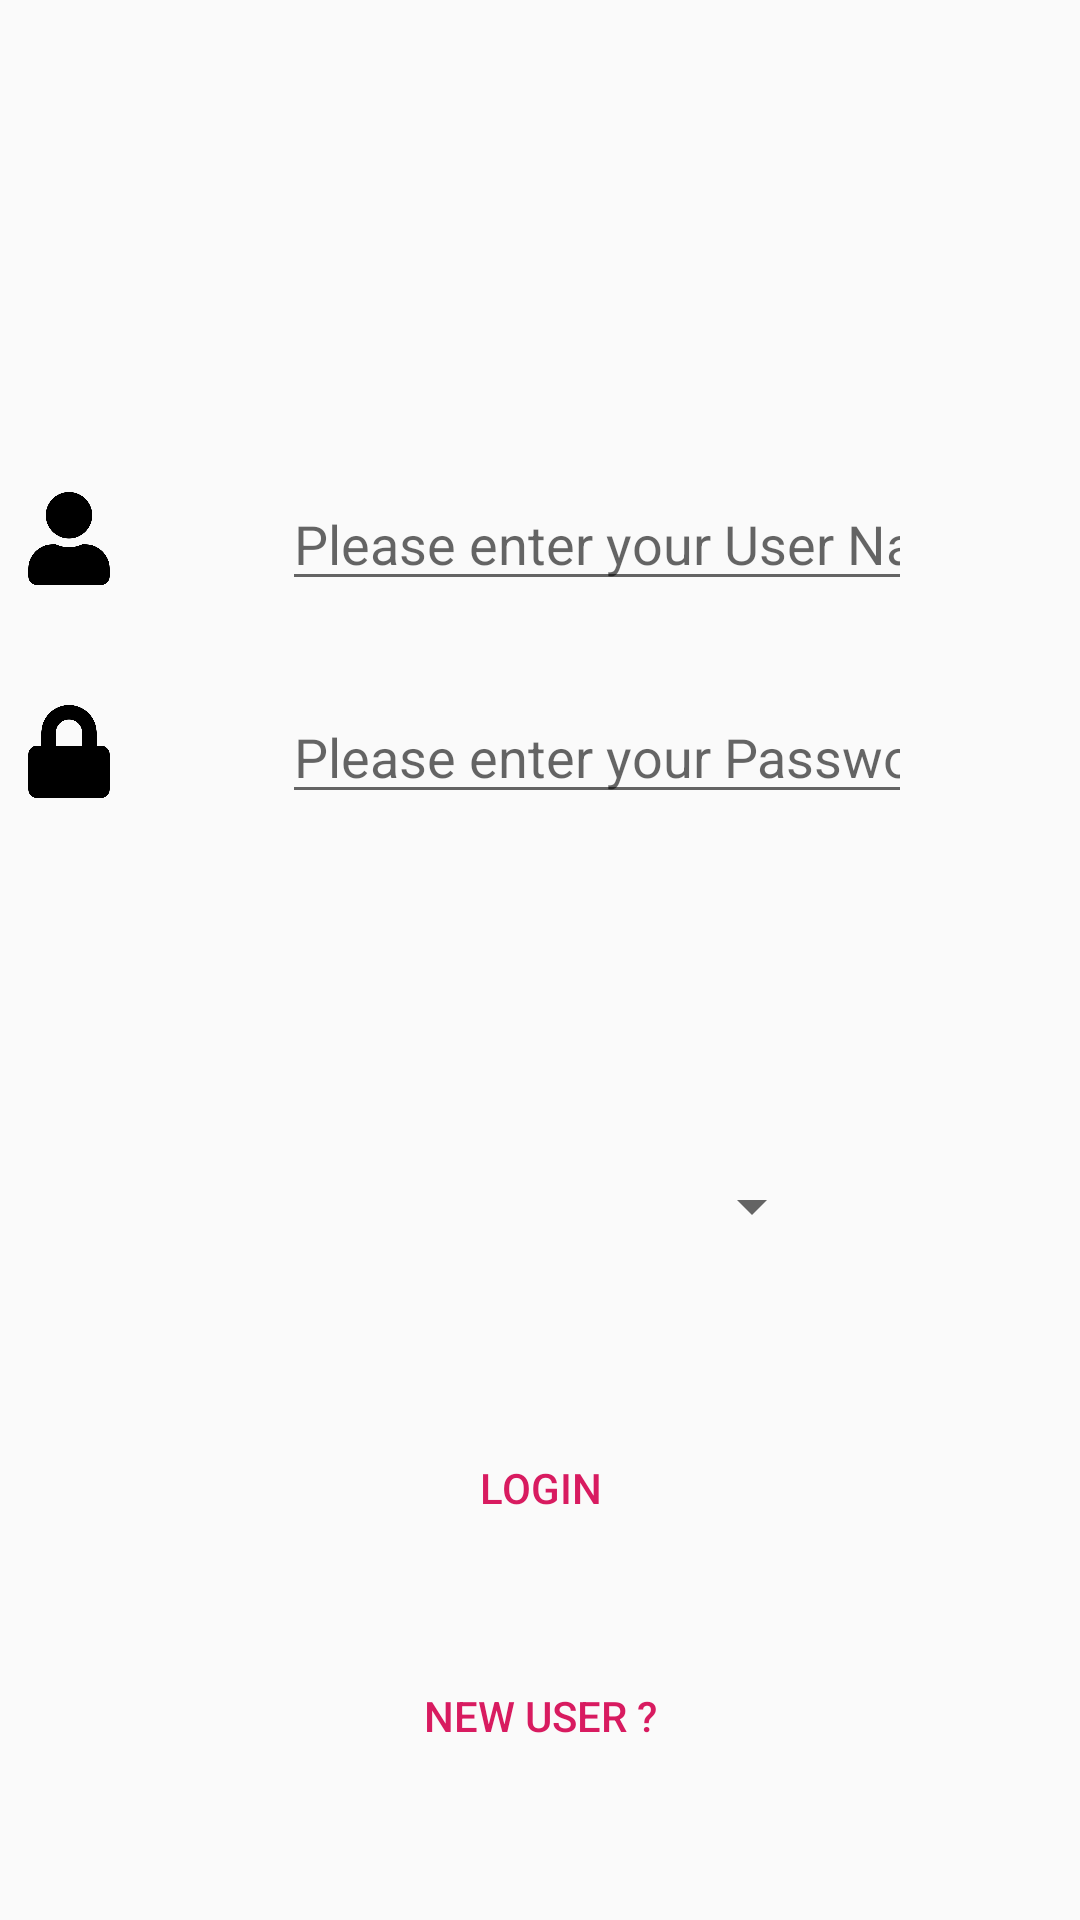

Point at icon controls on the screen. Image size 1080x1920, points as [x,y].
lock: [69,751]
user: [69,538]
